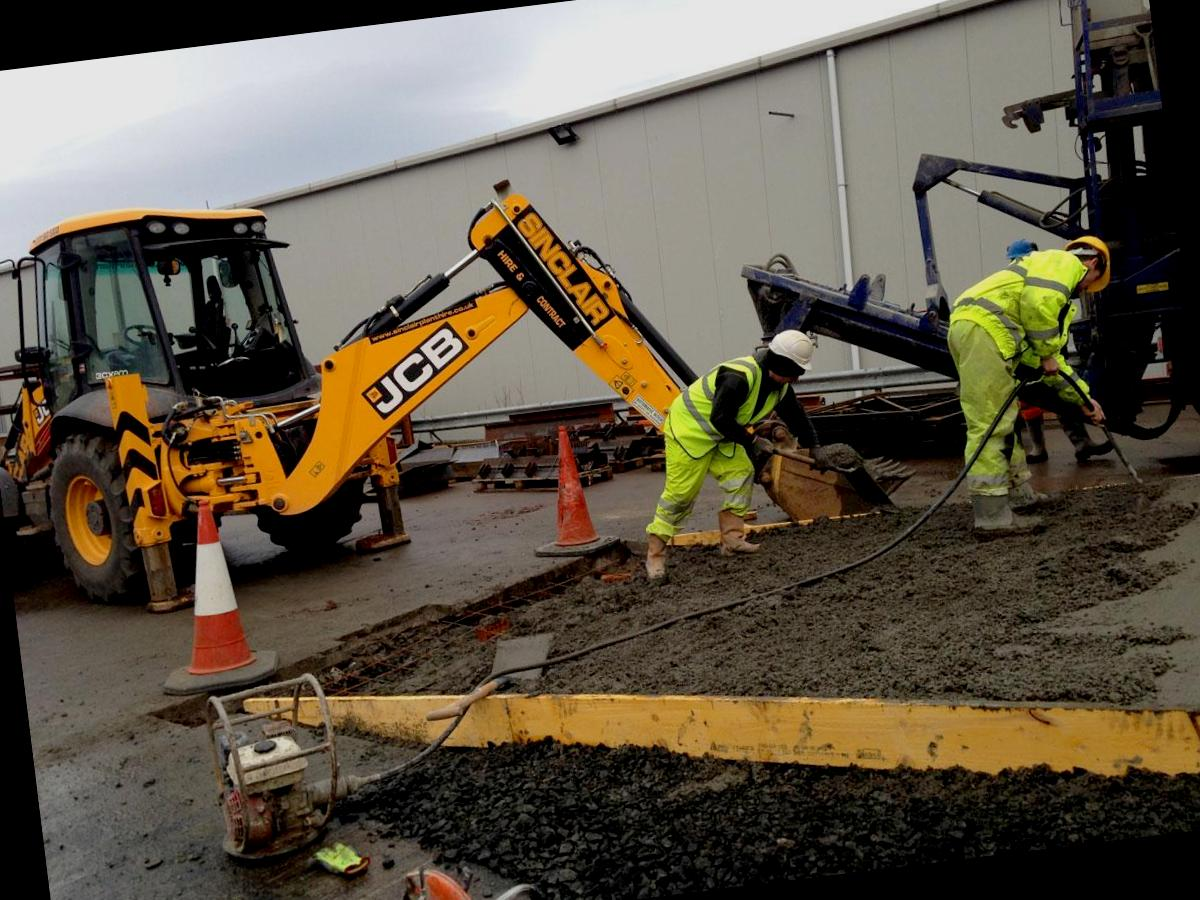helmet: (755, 322, 820, 390)
person: (924, 218, 1149, 530), (645, 321, 836, 577)
